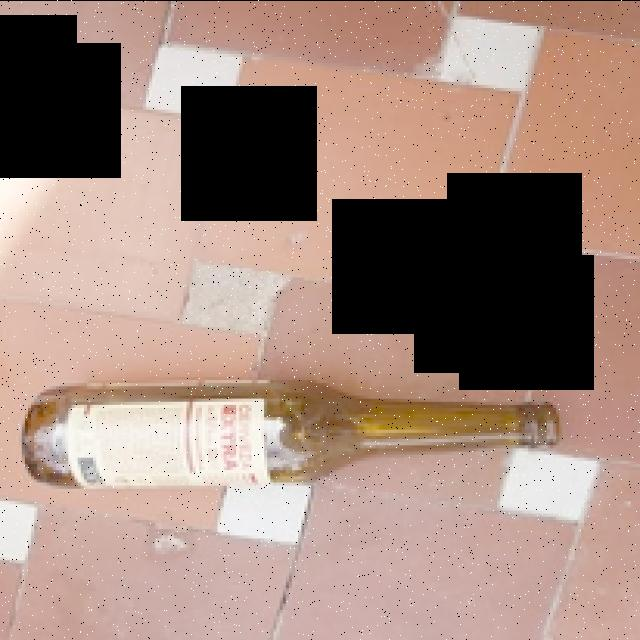glass-bottle: (18, 360, 578, 528)
